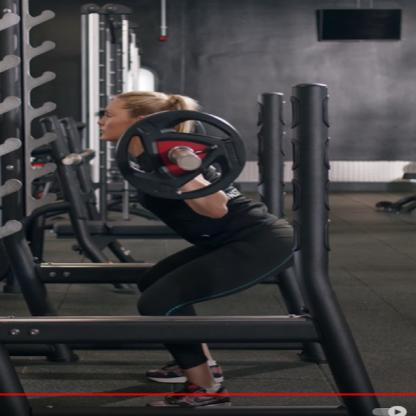Barbell: (108, 105, 258, 205)
